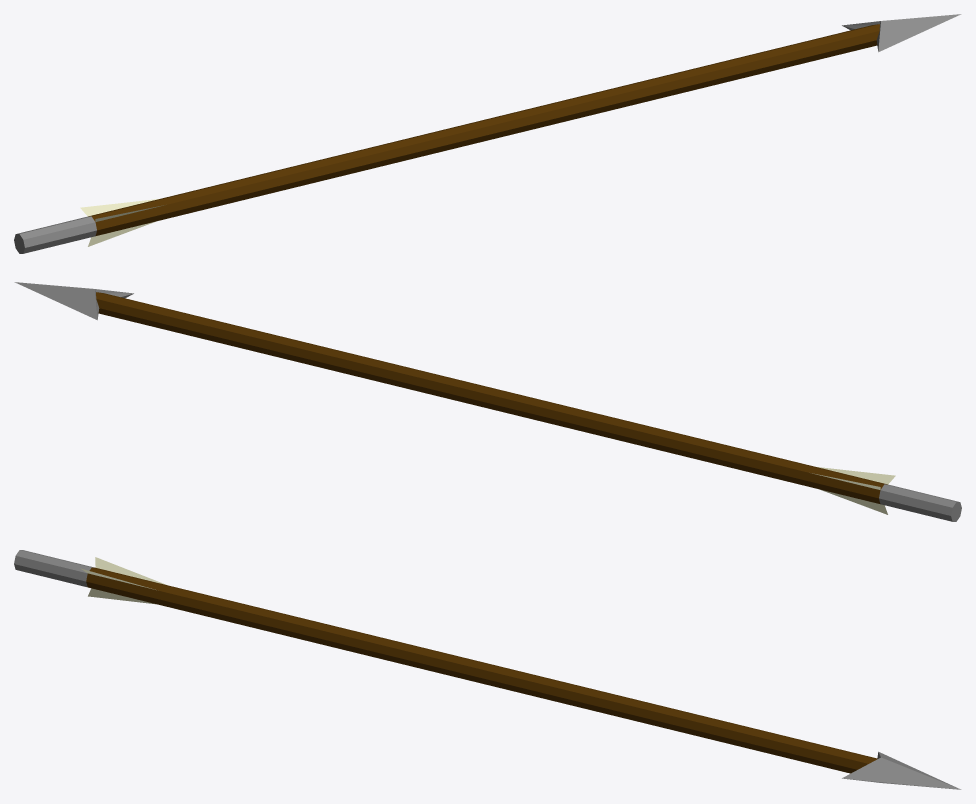
File: GADE cross bow arrow.fbx
3 views of the same model, one above another, from view 1: azimuth 30°, elevation 25°; view 2: azimuth 150°, elevation 25°; view 3: azimuth 330°, elevation 25° (orthographic).
Visible parts, largest first — view 1: Cylinder; view 2: Cylinder; view 3: Cylinder.
Part boxes in pixels (<box>): Cylinder: <box>14,14,961,253</box>; Cylinder: <box>14,282,961,521</box>; Cylinder: <box>14,550,961,789</box>.
Bounding box in the file's own units: 1829 × 62.76 × 124.
